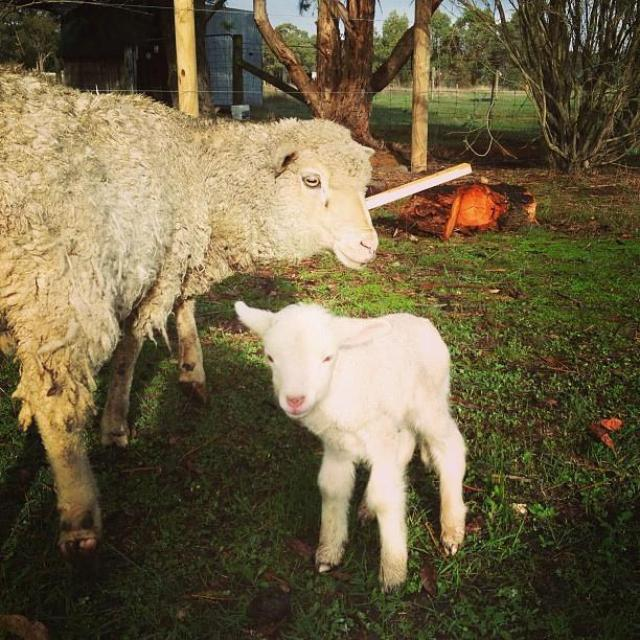Sheep: (0, 69, 383, 575), (232, 299, 471, 587)
